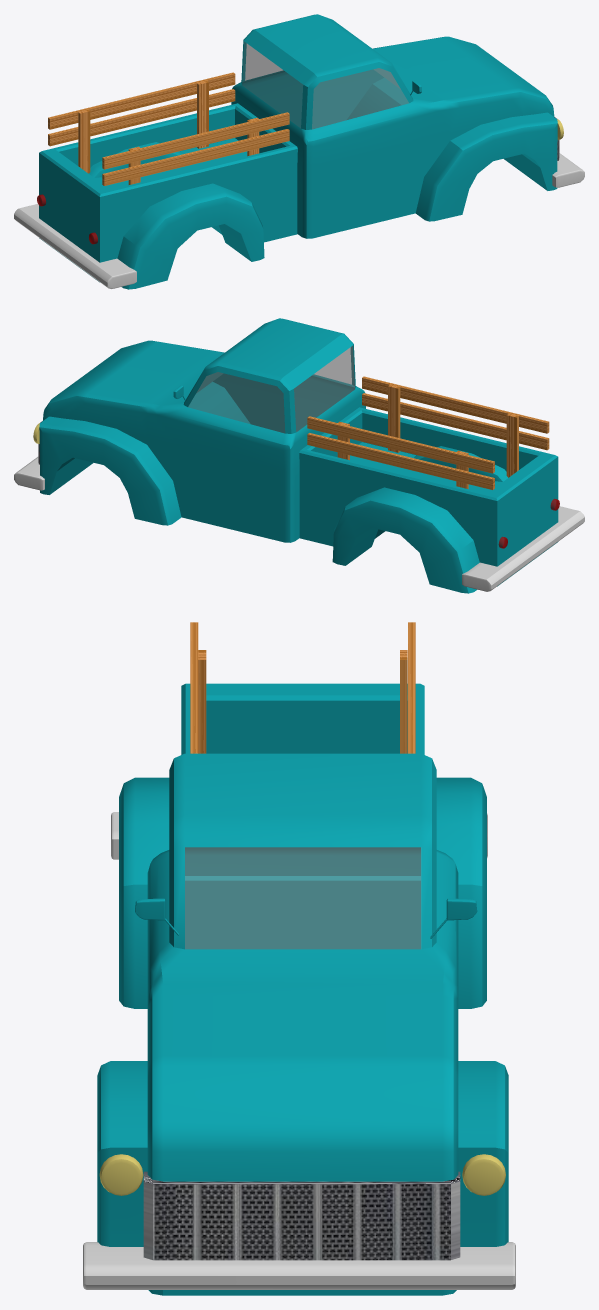
Rendered from ducktruck.fbx.
The picture shows the model from 3 angles, top to bottom: view 1: azimuth 30°, elevation 25°; view 2: azimuth 150°, elevation 25°; view 3: azimuth 270°, elevation 25°; orthographic projection. The views are drawn at different scales.
Visible parts, largest first — view 1: polySurface86; view 2: polySurface86; view 3: polySurface86.
Boxes of the visible parts, <box> form: polySurface86: <box>14,14,584,289</box>; polySurface86: <box>14,318,584,593</box>; polySurface86: <box>83,622,515,1295</box>.
Size of the model in its own units: 15.09 by 4.84 by 6.
